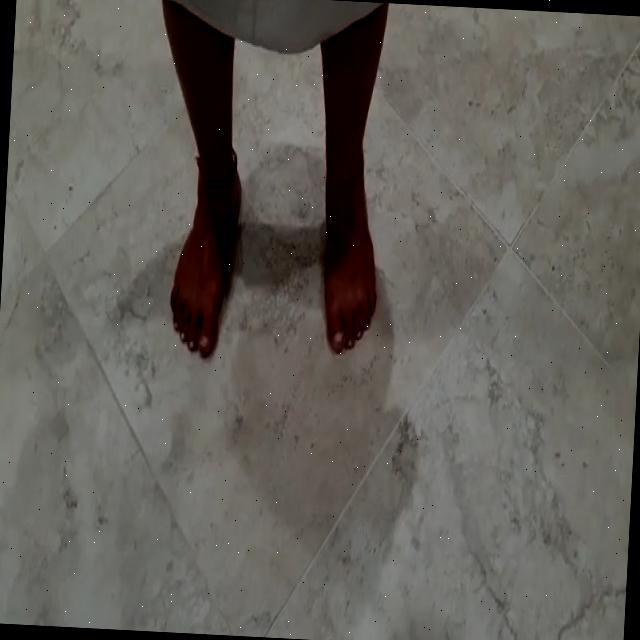no-boots: (309, 132, 392, 367), (164, 147, 251, 369)
